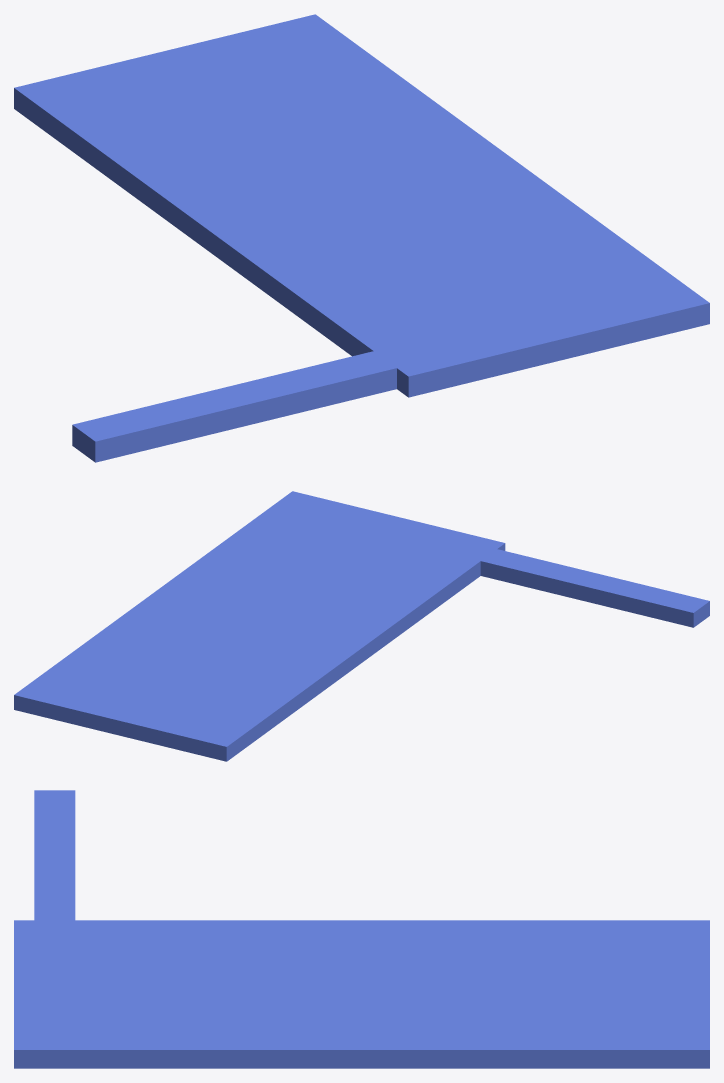
Rendered from water.gltf.
The picture shows the model from 3 angles, top to bottom: view 1: azimuth 30°, elevation 25°; view 2: azimuth 150°, elevation 25°; view 3: azimuth 270°, elevation 25°; orthographic projection. The views are drawn at different scales.
Visible parts, largest first — view 1: River; view 2: River; view 3: River.
Boxes of the visible parts, x1,y1,x2,y2 form: River: [14, 14, 709, 462]; River: [14, 491, 709, 761]; River: [14, 790, 709, 1068].
Size of the model in its own units: 3 by 0.1 by 3.4.
